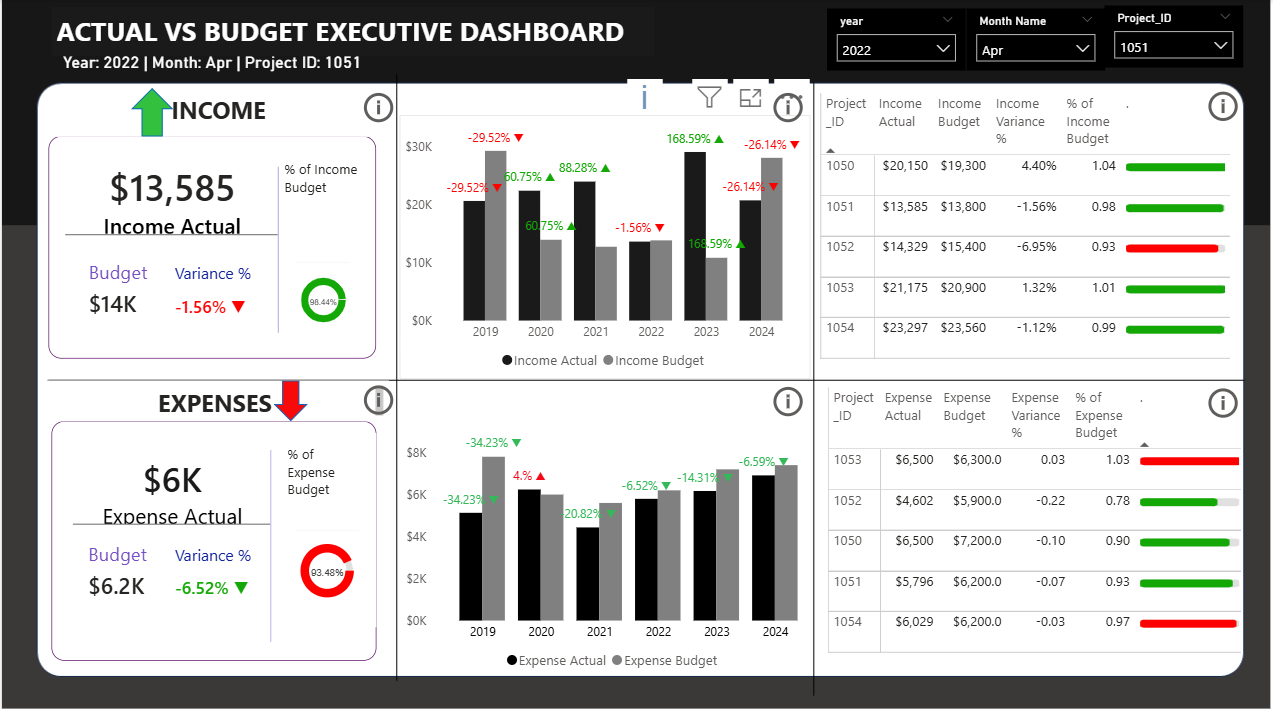

Layout of this report page (visuals, bound fields, positions):
{"tool":"powerbi","page":{"name":"Page 1","canvas":[1280,720],"ordinal":0},"visuals":[{"type":"slicer","fields":{"Values":["data.year"]},"box":[833.3,10.1,139.9,62.9],"z":0},{"type":"shape","box":[47.4,139.2,330.5,224.6],"z":0,"group":"g4"},{"type":"shape","box":[50.6,427,328.2,242.3],"z":0,"group":"g2"},{"type":"slicer","fields":{"Values":["data.Month Name"]},"box":[973.2,10.1,139.9,62.9],"z":1000},{"type":"slicer","fields":{"Values":["data.Project_ID"]},"box":[1113.1,8.1,139.9,62.9],"z":2000},{"type":"group","id":"g1","title":"Group 1","box":[47.4,139.2,330.5,224.6],"z":3000},{"type":"cardVisual","fields":{"Data":["key measures.Income Actual"]},"box":[49.6,155.6,245.6,196.9],"z":4000,"group":"g4"},{"type":"group","id":"g2","title":"Group 3","box":[50.6,427,328.2,242.3],"z":4000},{"type":"cardVisual","fields":{"Data":["key measures.Expense Actual"]},"box":[57.2,442.7,230.7,222],"z":4000,"group":"g2"},{"type":"clusteredColumnChart","fields":{"Y":["key measures.Income Actual","key measures.Income Budget"],"Category":["data.year"]},"box":[401.3,118.1,414.9,266.5],"z":5000},{"type":"cardVisual","fields":{"Data":["key measures.% of Income Budget"]},"box":[281.1,172.2,88.7,187],"z":5000,"group":"g4"},{"type":"cardVisual","fields":{"Data":["key measures.% of Expense Budget"]},"box":[279,439.6,99.6,196.1],"z":5000,"group":"g2"},{"type":"textbox","box":[281.1,157.9,90.3,58.6],"z":6000,"group":"g4"},{"type":"clusteredColumnChart","fields":{"Y":["key measures.Expense Actual","key measures.Expense Budget"],"Category":["data.year"]},"box":[402.8,427,430,260.4],"z":6000},{"type":"textbox","box":[283.8,444.8,78.4,65.7],"z":6000,"group":"g2"},{"type":"group","id":"g3","title":"Group 2","box":[47.4,139.2,330.5,224.6],"z":6002,"group":"g1"},{"type":"group","id":"g4","title":"Group 3","box":[47.4,139.2,330.5,224.6],"z":6002,"group":"g3"},{"type":"pivotTable","fields":{"Rows":["data.Project_ID"],"Values":["key measures.Income Actual","key measures.Income Budget","key measures.Income Variance %","key measures.% of Income Budget","key measures.Income Bar Chart"]},"box":[820.8,90.1,431.8,295.8],"z":7000},{"type":"pivotTable","fields":{"Rows":["data.Project_ID"],"Values":["key measures.Expense Actual","key measures.Expense Budget","key measures.Expense Variance %","key measures.% of Expense Budget","key measures.Expense Bar Chart"]},"box":[828.7,387.5,431.8,300.5],"z":9000},{"type":"textbox","box":[47.4,90.1,343.2,49],"z":10000},{"type":"textbox","box":[47.4,385.9,343.2,41.1],"z":11000},{"type":"shape","box":[129.7,90.1,42.7,49],"z":12000},{"type":"shape","box":[273.6,385.9,34.8,41.1],"z":13000},{"type":"textbox","box":[50.6,9.5,608.9,49],"z":14000},{"type":"card","fields":{"Values":["key measures.Dynamic Header"]},"box":[34.8,41.1,354.3,49],"z":15000},{"type":"actionButton","box":[360.6,90.1,42.7,39.5],"z":16000},{"type":"actionButton","box":[773.4,90.1,42.7,39.5],"z":17000},{"type":"actionButton","box":[1213.1,80.7,39.5,58.5],"z":18000},{"type":"actionButton","box":[360.6,385.9,42.7,39.5],"z":19000},{"type":"actionButton","box":[773.4,387.5,42.7,39.5],"z":20000},{"type":"actionButton","box":[1213.1,389.1,39.5,39.5],"z":21000}]}

Visuals, with their boxes in screenshot pixels (x1, y1, x2, y2), scaled from the page's 1280x720 canvas onto the 1273x709 screenshot:
slicer - data.year: [829,10,968,72]
shape: [47,137,376,358]
shape: [50,420,377,659]
slicer - data.Month Name: [968,10,1107,72]
slicer - data.Project_ID: [1107,8,1246,70]
"Group 1" group: [47,137,376,358]
cardVisual - key measures.Income Actual: [49,153,294,347]
"Group 3" group: [50,420,377,659]
cardVisual - key measures.Expense Actual: [57,436,286,655]
clusteredColumnChart - key measures.Income Actual x key measures.Income Budget: [399,116,812,379]
cardVisual - key measures.% of Income Budget: [280,170,368,354]
cardVisual - key measures.% of Expense Budget: [277,433,377,626]
textbox: [280,155,369,213]
clusteredColumnChart - key measures.Expense Actual x key measures.Expense Budget: [401,420,828,677]
textbox: [282,438,360,503]
"Group 2" group: [47,137,376,358]
"Group 3" group: [47,137,376,358]
pivotTable - data.Project_ID x key measures.Income Actual: [816,89,1246,380]
pivotTable - data.Project_ID x key measures.Expense Actual: [824,382,1254,677]
textbox: [47,89,388,137]
textbox: [47,380,388,420]
shape: [129,89,171,137]
shape: [272,380,307,420]
textbox: [50,9,656,58]
card - key measures.Dynamic Header: [35,40,387,89]
actionButton: [359,89,401,128]
actionButton: [769,89,812,128]
actionButton: [1206,79,1246,137]
actionButton: [359,380,401,419]
actionButton: [769,382,812,420]
actionButton: [1206,383,1246,422]
